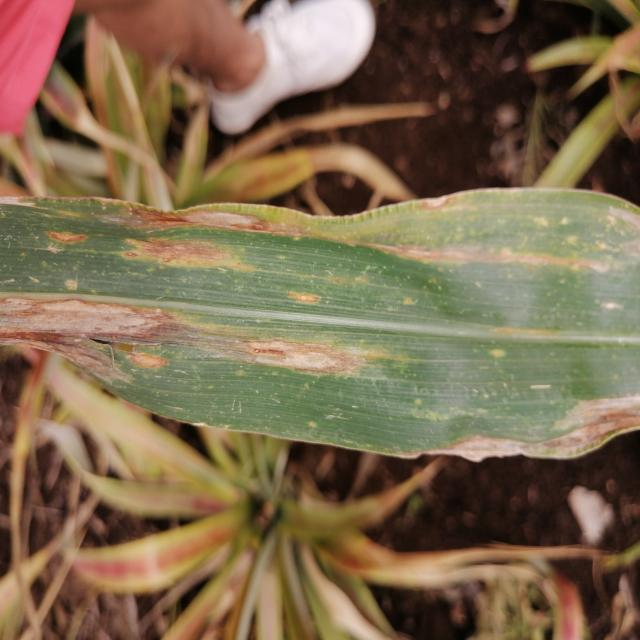Corn_Leaf_Blight: (0, 180, 640, 465)
